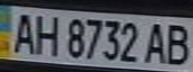2: (118, 18, 142, 64)
3: (103, 17, 124, 62)
7: (81, 16, 106, 60)
8: (63, 15, 87, 58)
A: (6, 9, 39, 55), (142, 19, 172, 65)
B: (163, 20, 193, 66)
H: (30, 11, 60, 56)
